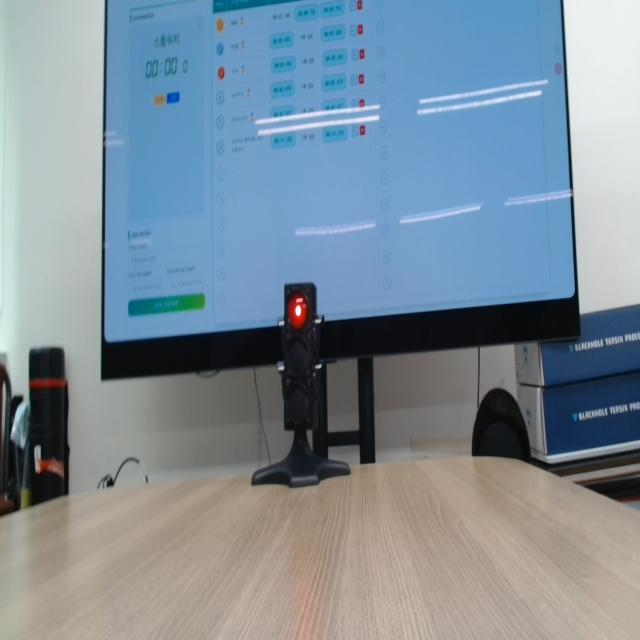red_light: (288, 294, 308, 330)
